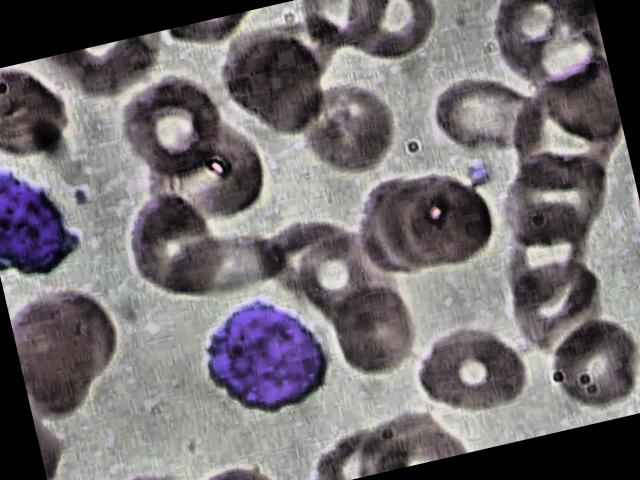Platelets: (458, 153, 498, 193)
RBC: (206, 15, 344, 157), (96, 61, 234, 193), (5, 281, 119, 424), (283, 68, 417, 186), (406, 311, 540, 428), (116, 178, 230, 305), (390, 155, 508, 276), (314, 265, 432, 386), (497, 243, 615, 354), (527, 303, 640, 416)
WBC: (181, 272, 340, 431), (0, 145, 85, 285)
